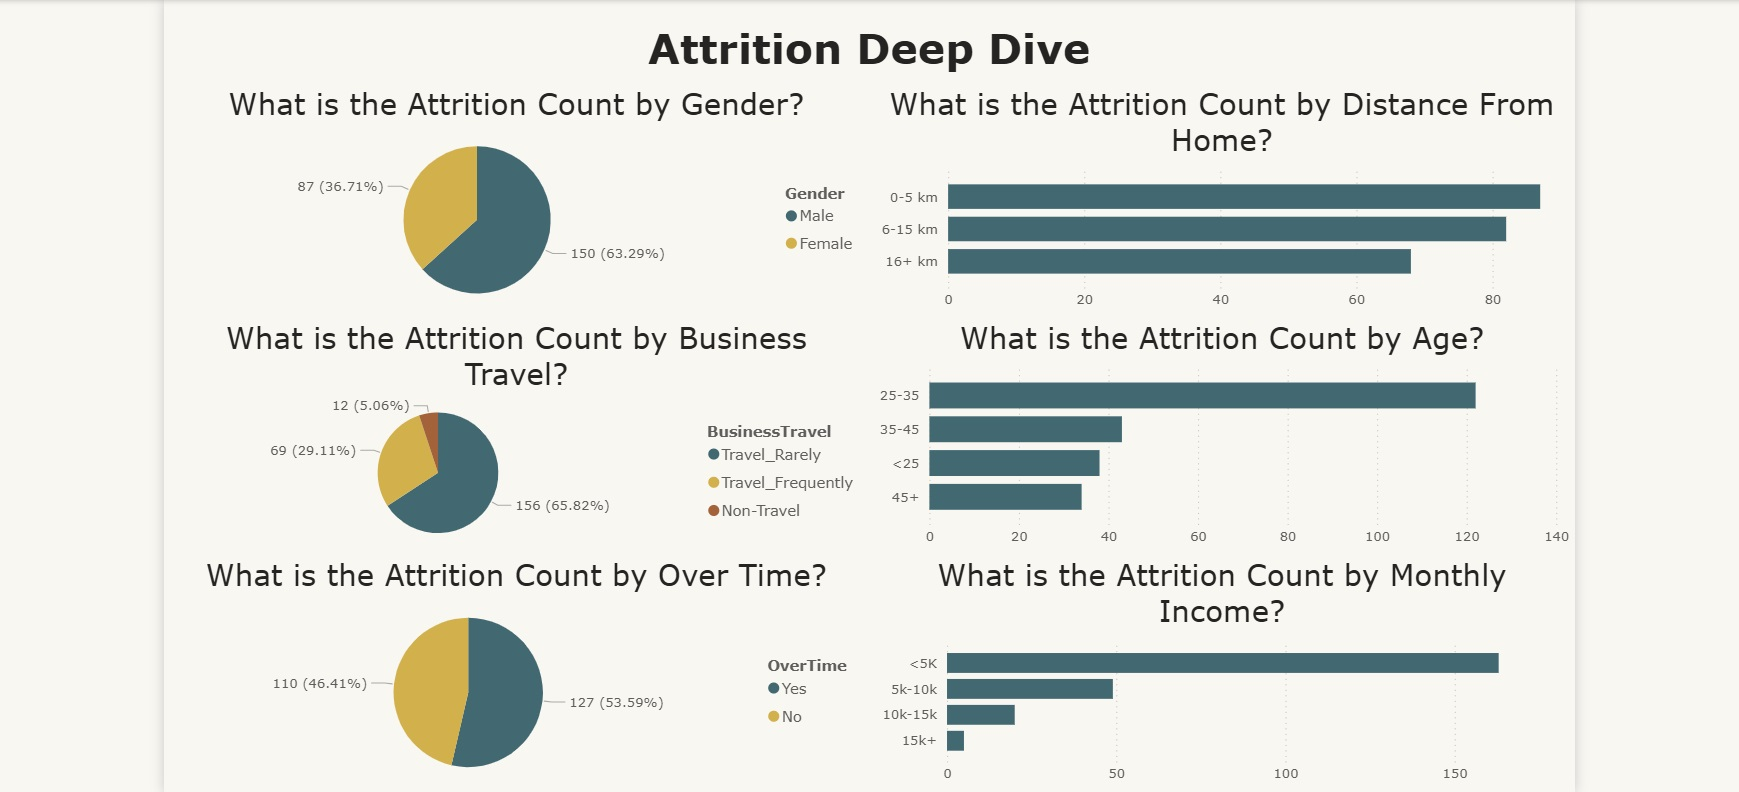

This screenshot's page, from the dashboard's own definition file:
{"tool":"powerbi","page":{"name":"Page 2","canvas":[1280,720],"ordinal":1},"visuals":[{"type":"textbox","box":[0,0,1279.6,77],"z":0},{"type":"pieChart","title":"What is the Attrition Count by Gender?","fields":{"Category":["Cleaned_HR_Analytics.Gender"],"Y":["Cleaned_HR_Analytics.Attrition Count"]},"box":[0,77.4,639.5,212.3],"z":1},{"type":"pieChart","title":"What is the Attrition Count by Business Travel?","fields":{"Category":["Cleaned_HR_Analytics.BusinessTravel"],"Y":["Cleaned_HR_Analytics.Attrition Count"]},"box":[0,289.2,639.7,214.4],"z":2},{"type":"pieChart","title":"What is the Attrition Count by Over Time?","fields":{"Y":["Cleaned_HR_Analytics.Attrition Count"],"Category":["Cleaned_HR_Analytics.OverTime"]},"box":[0,504.6,639.5,214.8],"z":3},{"type":"clusteredBarChart","title":"What is the Attrition Count by Distance From Home?","fields":{"Y":["Cleaned_HR_Analytics.Attrition Count"],"Category":["Cleaned_HR_Analytics.DistanceFromHome (groups)"]},"box":[639.5,77.4,640.8,212.3],"z":4},{"type":"clusteredBarChart","title":"What is the Attrition Count by Age?","fields":{"Y":["Cleaned_HR_Analytics.Attrition Count"],"Category":["Cleaned_HR_Analytics.Age (groups)"]},"box":[639.5,289.8,640.8,214.8],"z":5},{"type":"clusteredBarChart","title":"What is the Attrition Count by Monthly Income?","fields":{"Y":["Cleaned_HR_Analytics.Attrition Count"],"Category":["Cleaned_HR_Analytics.MonthlyIncome (groups)"]},"box":[639.5,504.6,640.8,214.8],"z":6}]}

Visuals, with their boxes on the page's 1280x720 design canvas (x1, y1, x2, y2). These are canvas units, not pixel positions in the 1739x792 screenshot, which may show the page scaled, cropped or inside an application window:
textbox: [left=0, top=0, right=1280, bottom=77]
"What is the Attrition Count by Gender?" pieChart: [left=0, top=77, right=640, bottom=290]
"What is the Attrition Count by Business Travel?" pieChart: [left=0, top=289, right=640, bottom=504]
"What is the Attrition Count by Over Time?" pieChart: [left=0, top=505, right=640, bottom=719]
"What is the Attrition Count by Distance From Home?" clusteredBarChart: [left=640, top=77, right=1280, bottom=290]
"What is the Attrition Count by Age?" clusteredBarChart: [left=640, top=290, right=1280, bottom=505]
"What is the Attrition Count by Monthly Income?" clusteredBarChart: [left=640, top=505, right=1280, bottom=719]
